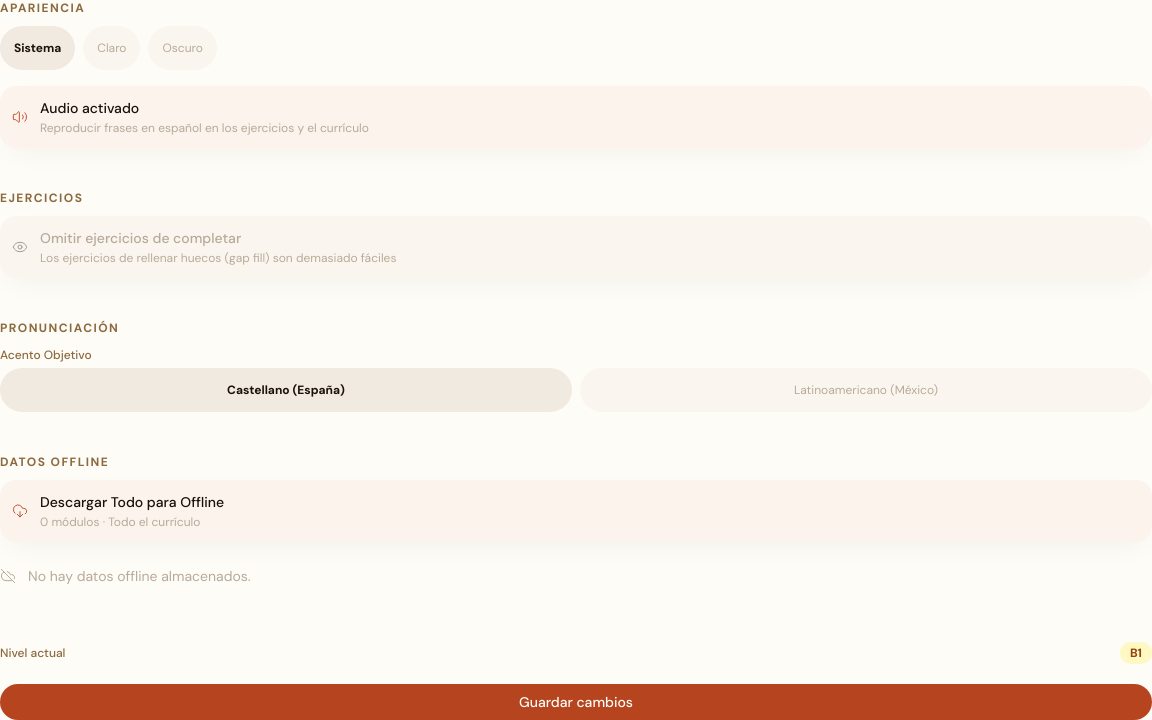
AccountForm › shows "Cambios guardados." after successful save
This screenshot has width=1152, height=720.
(page scrolled)
Click the button "Guardar cambios" at (576, 702), box [0,684,1151,719]
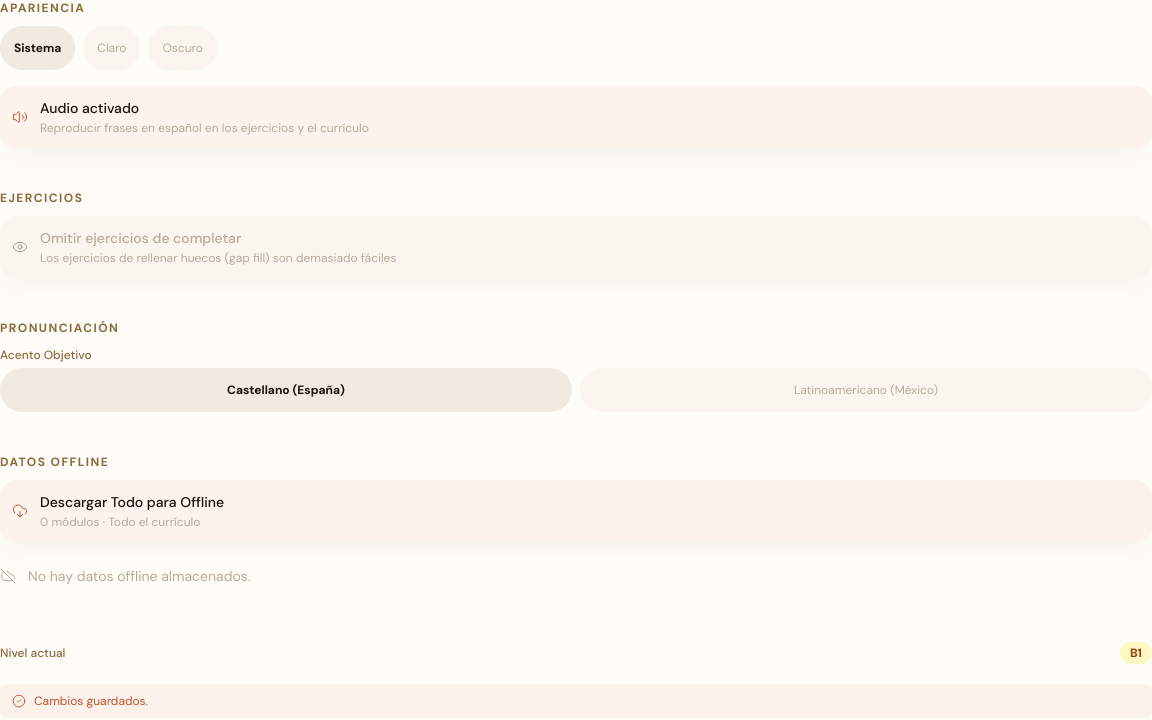
Now the text "Cambios guardados." is shown, box [34,692,148,710]
